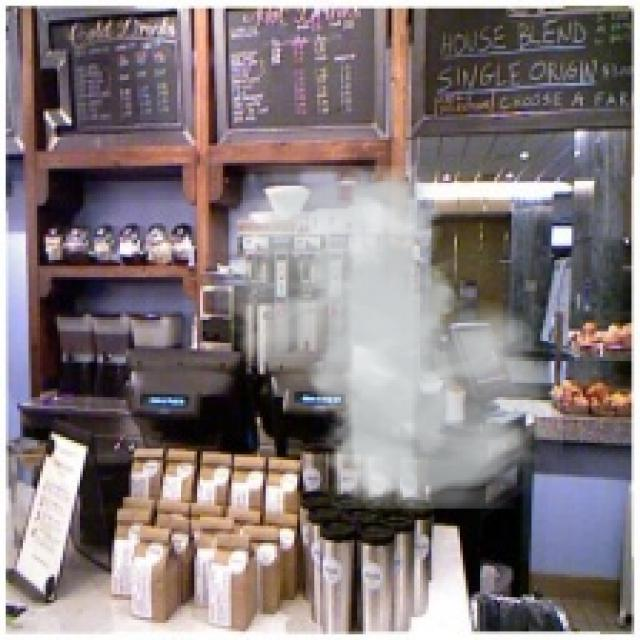smoke: (203, 166, 563, 508)
